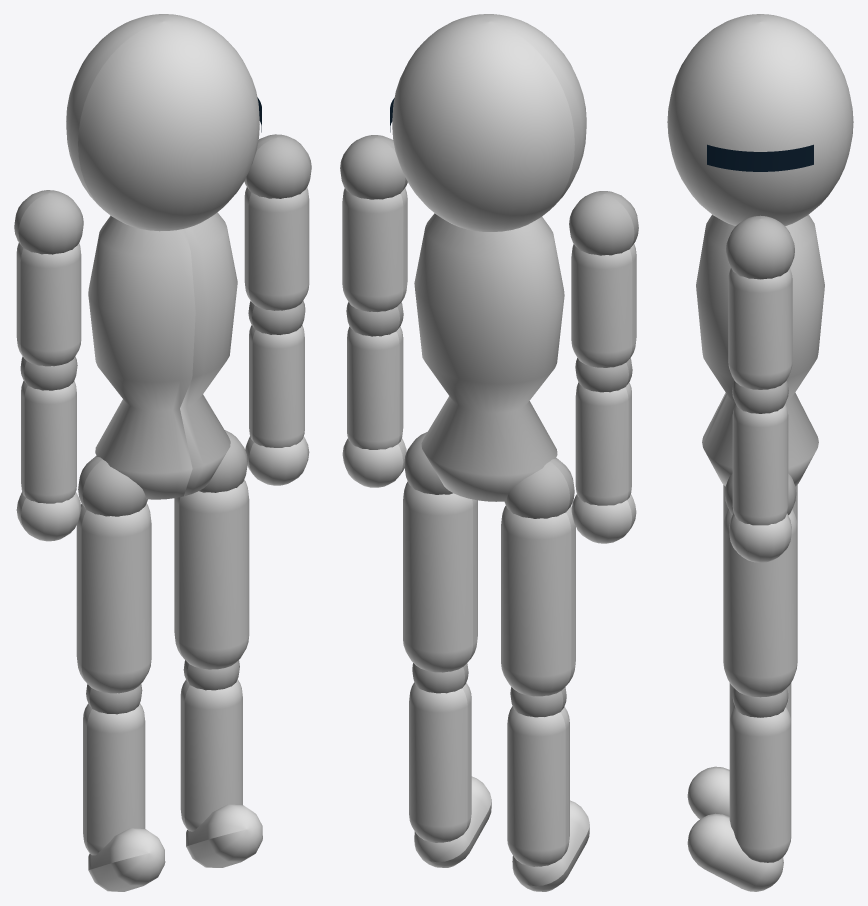
Rendered from teen.glb.
3 views of the same model, side by side, from view 1: azimuth 30°, elevation 25°; view 2: azimuth 150°, elevation 25°; view 3: azimuth 270°, elevation 25° (orthographic).
Parts seen in each view (by area): view 1: Torso, HeadMesh, Thigh_L, Thigh_R, Shin_R, Shin_L, UpperArm_R, UpperArm_L, ForeArm_L, ForeArm_R, Joint_LS, Foot_L (+10 smaller); view 2: Torso, HeadMesh, Thigh_L, Thigh_R, Shin_L, Shin_R, UpperArm_L, UpperArm_R, ForeArm_L, ForeArm_R, Joint_LS, Joint_RS (+10 smaller); view 3: HeadMesh, Torso, Thigh_R, Shin_R, UpperArm_R, ForeArm_R, Foot_R, Joint_RS, Visor, Hand_R, Foot_L, Joint_RE (+2 smaller).
Part boxes in pixels (x1=…): Torso: x1=88, y1=212, x2=237, y2=499; HeadMesh: x1=66, y1=14, x2=259, y2=231; Thigh_L: x1=76, y1=503, x2=151, y2=693; Thigh_R: x1=174, y1=479, x2=249, y2=669; Shin_R: x1=180, y1=679, x2=242, y2=831; Shin_L: x1=83, y1=703, x2=145, y2=855; UpperArm_R: x1=244, y1=187, x2=309, y2=310; UpperArm_L: x1=16, y1=243, x2=81, y2=366; ForeArm_L: x1=21, y1=381, x2=76, y2=503; ForeArm_R: x1=249, y1=325, x2=304, y2=447; Joint_LS: x1=14, y1=190, x2=83, y2=254; Foot_L: x1=88, y1=828, x2=165, y2=891; Torso: x1=414, y1=213, x2=564, y2=501; HeadMesh: x1=392, y1=14, x2=586, y2=231; Thigh_L: x1=501, y1=505, x2=575, y2=696; Thigh_R: x1=403, y1=481, x2=477, y2=672; Shin_L: x1=507, y1=706, x2=569, y2=866; Shin_R: x1=409, y1=682, x2=471, y2=842; UpperArm_L: x1=571, y1=243, x2=636, y2=367; UpperArm_R: x1=342, y1=188, x2=407, y2=311; ForeArm_L: x1=575, y1=382, x2=631, y2=505; ForeArm_R: x1=347, y1=326, x2=403, y2=449; Joint_LS: x1=569, y1=191, x2=638, y2=255; Joint_RS: x1=340, y1=135, x2=407, y2=199; HeadMesh: x1=667, y1=14, x2=853, y2=225; Torso: x1=696, y1=214, x2=824, y2=486; Thigh_R: x1=723, y1=509, x2=797, y2=697; Shin_R: x1=729, y1=707, x2=791, y2=862; UpperArm_R: x1=728, y1=268, x2=792, y2=389; ForeArm_R: x1=732, y1=404, x2=788, y2=525; Foot_R: x1=687, y1=813, x2=783, y2=891; Joint_RS: x1=726, y1=215, x2=794, y2=279; Visor: x1=707, y1=144, x2=813, y2=171; Hand_R: x1=729, y1=513, x2=791, y2=562; Foot_L: x1=687, y1=766, x2=729, y2=818; Joint_RE: x1=732, y1=381, x2=788, y2=413.
Bounding box in the file's own units: 0.532 × 1.5 × 0.3007.
